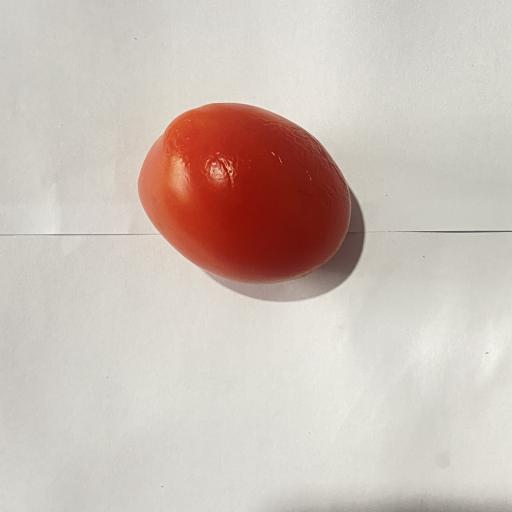spoiled: (138, 103, 351, 283)
